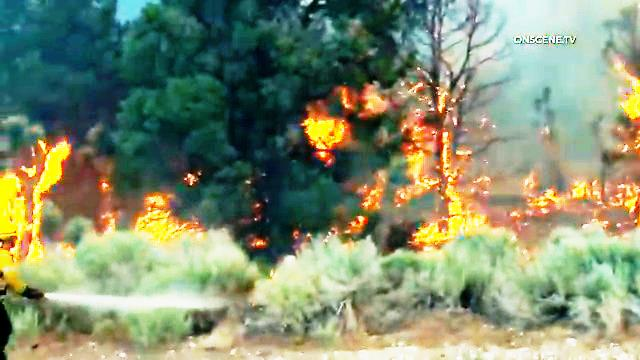fire: (0, 143, 66, 232), (291, 114, 345, 163), (426, 193, 480, 240)
smoke: (508, 62, 590, 165)
